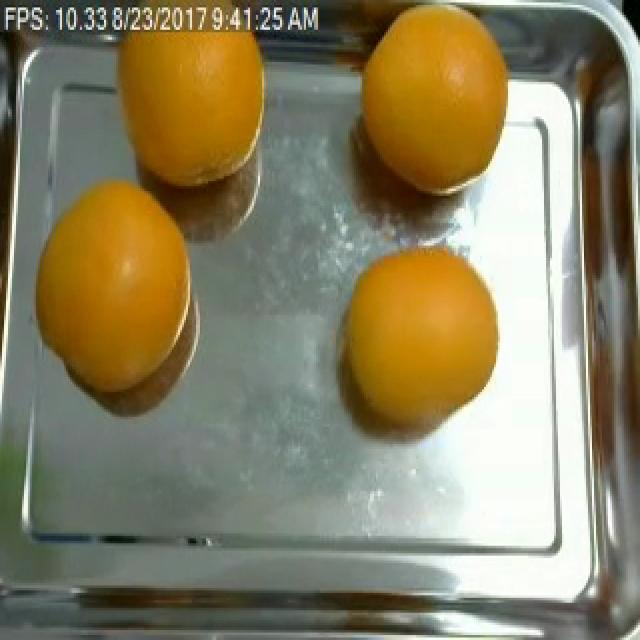Fruit: (80, 8, 266, 224)
